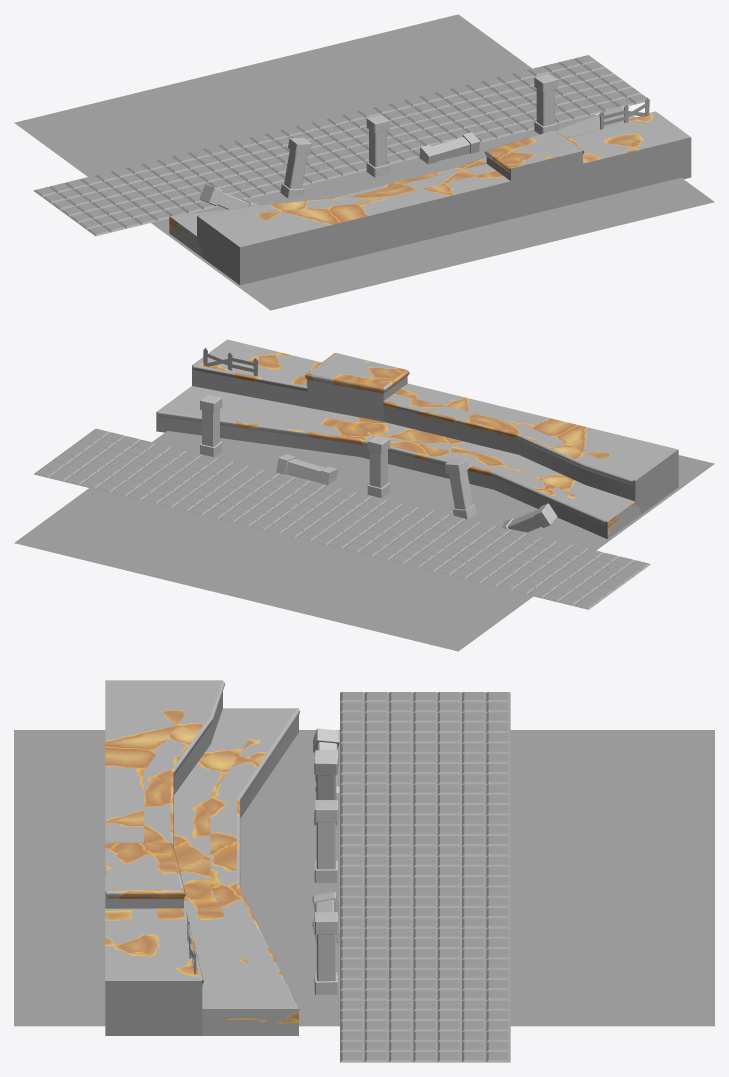
Rendered from Block_out.fbx.
3 renders of one model, top to bottom at view 1: azimuth 30°, elevation 25°; view 2: azimuth 150°, elevation 25°; view 3: azimuth 270°, elevation 25°, orthographic. The views are drawn at different scales.
Visible parts, largest first — view 1: GrassPlane, Hill, Tile1, Tile, Tile2, Grass_Trim1, pCube23, pCube17, pCube26, pCube25, pCube24; view 2: GrassPlane, Hill, Grass_Trim1, Tile, Tile1, Tile2, pCube17, pCube23, pCube26, pCube25, pCube24; view 3: GrassPlane, Hill, Tile, Tile2, Tile1, Grass_Trim1, pCube26, pCube17, pCube23, pCube24.
Boxes of the visible parts, left/top/right/bottom form: GrassPlane: left=14, top=14, right=714, bottom=310; Hill: left=169, top=106, right=691, bottom=285; Tile1: left=33, top=145, right=280, bottom=236; Tile: left=404, top=55, right=650, bottom=142; Tile2: left=218, top=100, right=455, bottom=190; Grass_Trim1: left=171, top=106, right=664, bottom=222; pCube23: left=280, top=137, right=311, bottom=198; pCube17: left=366, top=114, right=389, bottom=177; pCube26: left=534, top=73, right=557, bottom=134; pCube25: left=419, top=132, right=479, bottom=164; pCube24: left=199, top=184, right=257, bottom=209; GrassPlane: left=14, top=431, right=714, bottom=651; Hill: left=156, top=339, right=678, bottom=539; Grass_Trim1: left=158, top=353, right=642, bottom=525; Tile: left=33, top=428, right=280, bottom=519; Tile1: left=404, top=519, right=650, bottom=609; Tile2: left=219, top=474, right=465, bottom=564; pCube17: left=367, top=435, right=390, bottom=497; pCube23: left=445, top=458, right=476, bottom=519; pCube26: left=200, top=394, right=222, bottom=456; pCube25: left=276, top=454, right=337, bottom=484; pCube24: left=502, top=503, right=557, bottom=532; GrassPlane: left=14, top=730, right=714, bottom=1026; Hill: left=105, top=680, right=298, bottom=1035; Tile: left=340, top=938, right=510, bottom=1062; Tile2: left=340, top=815, right=510, bottom=939; Tile1: left=340, top=692, right=510, bottom=815; Grass_Trim1: left=104, top=681, right=299, bottom=1010; pCube26: left=314, top=912, right=338, bottom=994; pCube17: left=314, top=800, right=337, bottom=882; pCube23: left=314, top=750, right=338, bottom=825; pCube24: left=313, top=728, right=339, bottom=793.
Size of the model in its own units: 30 by 3.71 by 24.
